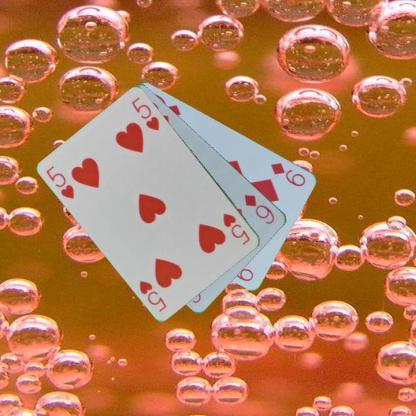5h: (43, 162, 76, 200), (221, 210, 252, 247)
6d: (242, 192, 276, 226)
9d: (268, 159, 308, 188)
